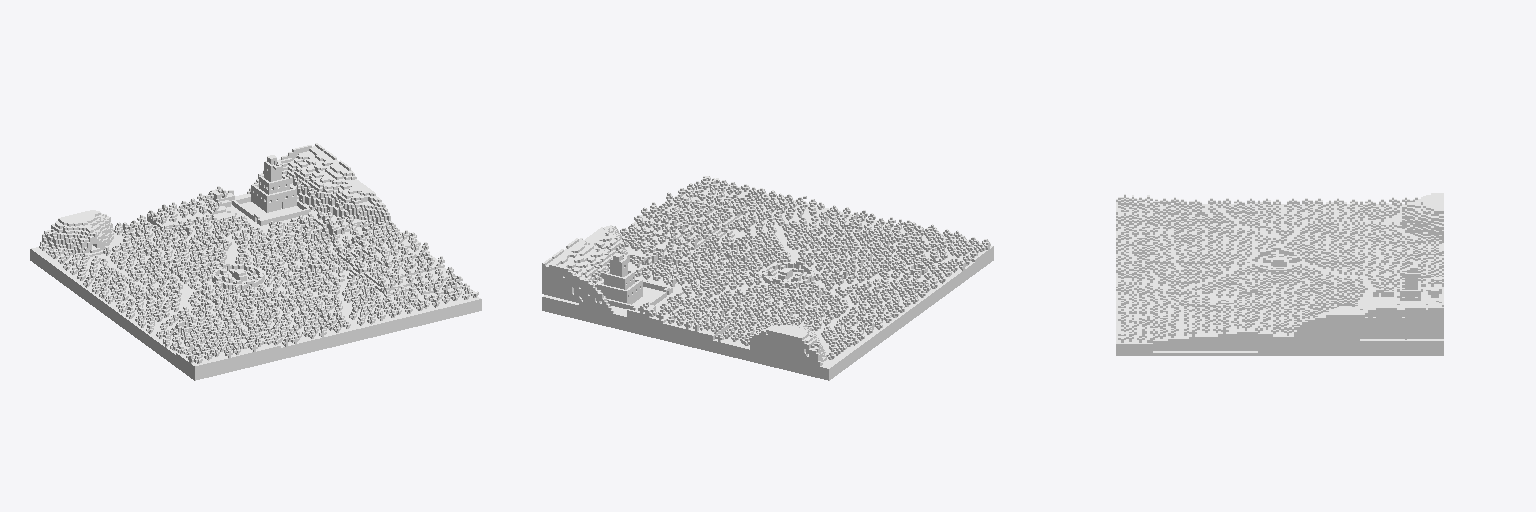
File: mapa1.obj
3 views of the same model, side by side, from view 1: azimuth 30°, elevation 25°; view 2: azimuth 150°, elevation 25°; view 3: azimuth 270°, elevation 25° (orthographic).
Visible parts, largest first — view 1: object 1; view 2: object 1; view 3: object 1.
Boxes of the visible parts, x1,y1,x2,y2 form: object 1: [30, 143, 481, 380]; object 1: [542, 176, 993, 380]; object 1: [1116, 193, 1443, 355].
Bounding box in the file's own units: 12.6 × 2.5 × 12.5.